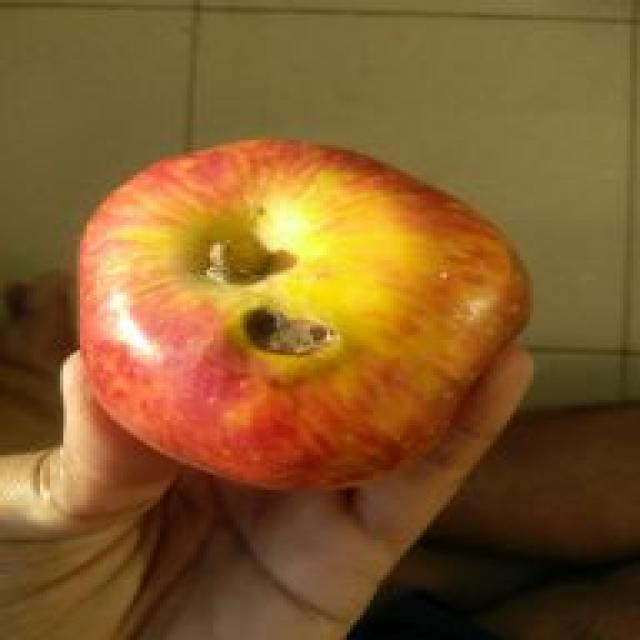Bad_Apple: (80, 140, 530, 488)
